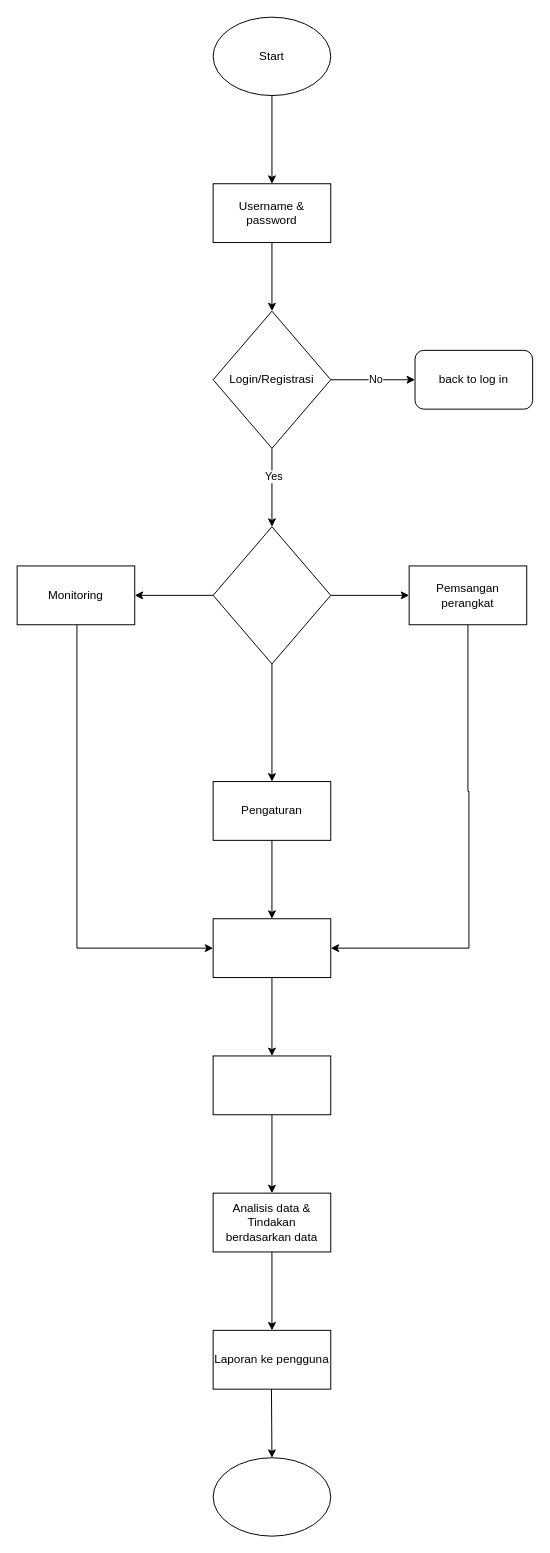
This 550x1553 diagram has some shape labels left out. Each missing label, with the centre of its shape:
Pemilihan layanan: [271,595]
Penyimpanan data ke server: [271,1085]
Proses pengolahan data dari perangkat IoT: [271,948]
Selesai: [271,1496]
